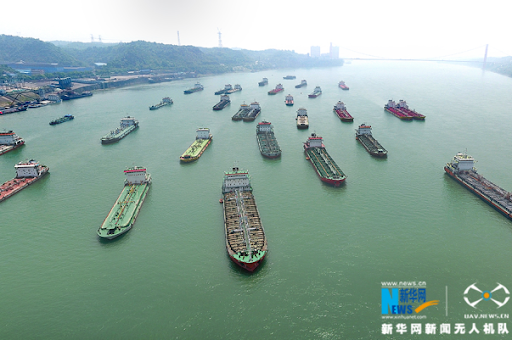boat: (216, 166, 274, 273), (99, 163, 150, 246), (301, 135, 346, 188), (350, 125, 394, 161), (177, 126, 213, 166), (97, 116, 142, 148), (251, 121, 287, 160)
